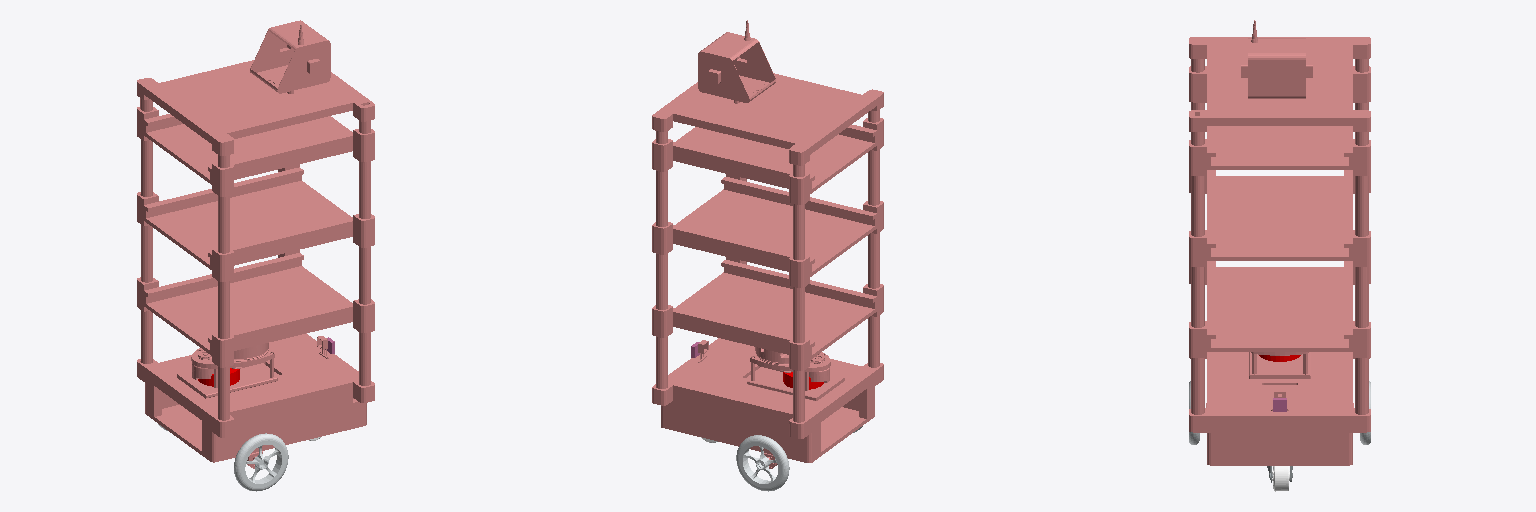
robot.urdf — recolector_v8:
<?xml version="1.0"?>
<!-- This URDF was automatically created by SolidWorks to URDF Exporter! Originally created by [author] ([email redacted]) 
     Commit Version: 1.6.0-4-g7f85cfe  Build Version: 1.6.7995.38578
     For more information, please see http://wiki.ros.org/sw_urdf_exporter -->
<robot
  name="recolector_v8">
  <link
    name="base_link">
    <inertial>
      <origin
        xyz="-0.000711812483994489 0.00172160024482687 0.257994794286112"
        rpy="0 0 0" />
      <mass
        value="1.4551450949967" />
      <inertia
        ixx="0.0265498248699101"
        ixy="0"
        ixz="0"
        iyy="0.0354943837149582"
        iyz="0"
        izz="0.0584651005440145" />
    </inertial>
    <visual>
      <origin
        xyz="0 0 0"
        rpy="0 0 0" />
      <geometry>
        <mesh
          filename="package://recolector_ros2/meshes/base_link.STL" />
      </geometry>
      <material
        name="">
        <color
          rgba="0.894117647058823 0.596078431372549 0.596078431372549 1" />
      </material>
    </visual>
    <collision>
      <origin
        xyz="0 0 0"
        rpy="0 0 0" />
      <geometry>
        <mesh
          filename="package://recolector_ros2/meshes/base_link.STL" />
      </geometry>
    </collision>
  </link>

  <gazebo reference="base_link">
    <mu1>200</mu1>
    <mu2>200</mu2>
    <kp>1000000</kp>
    <kd>1</kd>
  </gazebo>

  <link
    name="rueda_derecha_link">
    <inertial>
      <origin
        xyz="-1.6264494554219E-06 1.25045503471255E-06 -0.0119390562108947"
        rpy="0 0 0" />
      <mass
        value="0.529919806264885" />
      <inertia
        ixx="0.002"
        ixy="0"
        ixz="0"
        iyy="0.002"
        iyz="0"
        izz="0.001" />
    </inertial>
    <visual>
      <origin
        xyz="0 0 0"
        rpy="0 0 0" />
      <geometry>
        <mesh
          filename="package://recolector_ros2/meshes/rueda_derecha_link.STL" />
      </geometry>
      <material
        name="">
        <color
          rgba="0.898039215686275 0.917647058823529 0.929411764705882 1" />
      </material>
    </visual>
    <collision>
      <origin
        xyz="0 0 0"
        rpy="0 0 0" />
      <geometry>
        <mesh
          filename="package://recolector_ros2/meshes/rueda_derecha_link.STL" />
      </geometry>
    </collision>
  </link>

  <gazebo reference="rueda_derecha_link">
    <mu1>200</mu1>
    <mu2>200</mu2>
    <kp>1000000</kp>
    <kd>1</kd>
    <material>Gazebo/Gray</material>
  </gazebo>

  <joint
    name="rueda_derecha_joint"
    type="continuous">
    <origin
      xyz="-0.09446 -0.1758 -0.1338"
      rpy="1.5708 -0.074776 3.1416" />
    <parent
      link="base_link" />
    <child
      link="rueda_derecha_link" />
    <axis
      xyz="0 0 1" />
    <limit
      effort="100"
      velocity="100" />
    <dynamics
      damping="0.1"
      friction="0.1" />
  </joint>
  <link
    name="rueda_izquiera_link">
    <inertial>
      <origin
        xyz="-1.7946015785919E-06 -9.9416029515631E-07 0.0119390562153693"
        rpy="0 0 0" />
      <mass
        value="0.529919806574137" />
      <inertia
        ixx="0.002"
        ixy="0"
        ixz="0"
        iyy="0.002"
        iyz="0"
        izz="0.001" />
    </inertial>
    <visual>
      <origin
        xyz="0 0 0"
        rpy="0 0 0" />
      <geometry>
        <mesh
          filename="package://recolector_ros2/meshes/rueda_izquiera_link.STL" />
      </geometry>
      <material
        name="">
        <color
          rgba="0.898039215686275 0.917647058823529 0.929411764705882 1" />
      </material>
    </visual>
    <collision>
      <origin
        xyz="0 0 0"
        rpy="0 0 0" />
      <geometry>
        <mesh
          filename="package://recolector_ros2/meshes/rueda_izquiera_link.STL" />
      </geometry>
    </collision>
  </link>
  <joint
    name="rueda_izquiera_joint"
    type="continuous">
    <origin
      xyz="-0.09446 0.1758 -0.1338"
      rpy="-1.5708 0.074776 0" />
    <parent
      link="base_link" />
    <child
      link="rueda_izquiera_link" />
    <axis
      xyz="0 0 1" />
    <limit
      effort="100"
      velocity="100" />
    <dynamics
      damping="0.1"
      friction="0.1" />
  </joint>

  <gazebo reference="rueda_izquiera_link">
    <mu1>200</mu1>
    <mu2>200</mu2>
    <kp>1000000</kp>
    <kd>1</kd>
    <material>Gazebo/Gray</material>
  </gazebo>

  <link
    name="base_castor_link">
    <inertial>
      <origin
        xyz="0.0191648864694682 -0.00146496473370206 0.0128267514302346"
        rpy="0 0 0" />
      <mass
        value="0.215171406252836" />
      <inertia
        ixx="0.000121585630266892"
        ixy="2.48092821183915E-07"
        ixz="-2.41578569761316E-05"
        iyy="0.000127975596762742"
        iyz="1.57442789839309E-06"
        izz="0.000165459219137249" />
    </inertial>
    <visual>
      <origin
        xyz="0 0 0"
        rpy="0 0 0" />
      <geometry>
        <mesh
          filename="package://recolector_ros2/meshes/base_castor_link.STL" />
      </geometry>
      <material
        name="">
        <color
          rgba="0.63921568627451 0.666666666666667 0.67843137254902 1" />
      </material>
    </visual>
    <collision>
      <origin
        xyz="0 0 0"
        rpy="0 0 0" />
      <geometry>
        <mesh
          filename="package://recolector_ros2/meshes/base_castor_link.STL" />
      </geometry>
    </collision>
  </link>

  <gazebo reference="base_castor_link">
    <mu1>0.1</mu1>
    <mu2>0.1</mu2>
    <kp>1000000</kp>
    <kd>1</kd>
    <material>Gazebo/Gray</material>
  </gazebo>
  
  <joint
    name="base_castor_joint"
    type="continuous">
    <origin
      xyz="0.11414 0 -0.13548"
      rpy="-3.1366 0 0" />
    <parent
      link="base_link" />
    <child
      link="base_castor_link" />
    <axis
      xyz="0 0 1" />
    <limit
      effort="100"
      velocity="100" />
    <dynamics
      damping="0.1"
      friction="0.1" />
  </joint>
  <link
    name="rueda_castor_link">
    <inertial>
      <origin
        xyz="-7.07219005580129E-12 -3.79738573919042E-10 -6.69822119991892E-09"
        rpy="0 0 0" />
      <mass
        value="0.106094497392739" />
      <inertia
        ixx="0.002"
        ixy="0"
        ixz="0"
        iyy="0.002"
        iyz="0"
        izz="0.001" />
    </inertial>
    <visual>
      <origin
        xyz="0 0 0"
        rpy="0 0 0" />
      <geometry>
        <mesh
          filename="package://recolector_ros2/meshes/rueda_castor_link.STL" />
      </geometry>
      <material
        name="">
        <color
          rgba="1 1 1 1" />
      </material>
    </visual>
    <collision>
      <origin
        xyz="0 0 0"
        rpy="0 0 0" />
      <geometry>
        <mesh
          filename="package://recolector_ros2/meshes/rueda_castor_link.STL" />
      </geometry>
    </collision>
  </link>

  <gazebo reference="rueda_castor_link">
    <mu1>0.01</mu1>
    <mu2>0.01</mu2>
    <kp>1000000</kp>
    <kd>1</kd>
    <material>Gazebo/Gray</material>
  </gazebo>

  <joint
    name="rueda_castor_joint"
    type="continuous">
    <origin
      xyz="0.037463 -0.0019644 0.036457"
      rpy="0 -1.5658 1.5708" />
    <parent
      link="base_castor_link" />
    <child
      link="rueda_castor_link" />
    <axis
      xyz="0 0 1" />
    <limit
      effort="100"
      velocity="100" />
    <dynamics
      damping="0.1"
      friction="0.1" />
  </joint>


  <joint name="laser_joint" type="fixed">
        <parent
          link="base_link" />
        <child link="laser_frame"/>
        <origin xyz="-0.1 0 0.020" rpy="0 0 0"/>
  </joint>

  <link name="laser_frame">
   <inertial>
      <origin
        xyz="0 0 0"
        rpy="0 0 0" />
      <mass
        value="0.1" />
      <inertia
        ixx="0.002"
        ixy="0"
        ixz="0"
        iyy="0.002"
        iyz="0"
        izz="0.001" />
    </inertial>
    <visual>
      <geometry>
        <cylinder radius="0.05" length="0.04"/>
      </geometry>
      <material
        name="">
        <color
         rgba="1 0 0 1" />
      </material>
    </visual>
    <collision>
      <geometry>
        <cylinder radius="0.05" length="0.04"/>
      </geometry>
    </collision> 
  </link>

 <!-- Camera -->
  <link name="camera_link">
    <collision>
      <origin xyz="0 0 0" rpy="0 0 0"/>
      <geometry>
        <box size="0.010 0.03 0.03"/>
      </geometry>
    </collision>

    <visual>
      <origin xyz="0 0 0" rpy="0 0 0"/>
      <geometry>
        <box size="0.010 0.03 0.03"/>
      </geometry>
      <material name="green"/>
    </visual>
  </link>

  <joint name="camera_joint" type="fixed">
    <axis xyz="0 1 0" />
    <origin xyz="0.2 0 0.022" rpy="0 0 0"/>
    <parent link="base_link"/>
    <child link="camera_link"/>
  </joint>


  

  <gazebo>
    <plugin name="two_wheeled_robot_diff_drive" filename="libgazebo_ros_diff_drive.so">
 
      <update_rate>100</update_rate>
      
      <!-- ruedas -->
      <left_joint>rueda_izquiera_joint</left_joint>
      <right_joint>rueda_derecha_joint</right_joint>
 
      <!-- cinematica -->
      <wheel_separation>0.3516</wheel_separation>
      <wheel_diameter>0.144</wheel_diameter>
 
      <!-- limites -->
      <max_wheel_torque>10</max_wheel_torque>
      <max_wheel_acceleration>10</max_wheel_acceleration>
 
      <!-- Recibe los comandos de velocidad -->
      <command_topic>cmd_vel</command_topic>
 
      <!-- output -->
      <!-- Cuando es falso, publica no recibe el comando de odometria -->
      <publish_odom>true</publish_odom>
 
      <!-- When true, publish coordinate transform from odom to base_footprint -->
      <!-- I usually use the robot_localization package to publish this transform -->  
      <publish_odom_tf>true</publish_odom_tf>
     
      <!-- When true, publish coordinate transform from base_link to the wheels -->
      <!-- The robot_state_publisher package is often used to publish this transform -->  
      <publish_wheel_tf>true</publish_wheel_tf>
 
      <odometry_topic>odom</odometry_topic>
      <odometry_frame>odom_link</odometry_frame>
      <robot_base_frame>base_link</robot_base_frame>
 
      <odometry_source>1</odometry_source>
      <ros>
        <remapping>odom:=wheel/odometry</remapping>
      </ros>
    </plugin>
  </gazebo>

  <gazebo reference="laser_frame">
        <material>Gazebo/Black</material>

        <sensor name="laser" type="ray">
            <pose> 0 0 0 0 0 0 </pose>
            <visualize>true</visualize>
            <update_rate>10</update_rate>
            <ray>
                <scan>
                    <horizontal>
                        <samples>360</samples>
                        <min_angle>-3.14</min_angle>
                        <max_angle>3.14</max_angle>
                    </horizontal>
                </scan>
                <range>
                    <min>0.3</min>
                    <max>12</max>
                </range>
            </ray>
            <plugin name="laser_controller" filename="libgazebo_ros_ray_sensor.so">
                <ros>
                    <argument>~/out:=scan</argument>
                </ros>
                <output_type>sensor_msgs/LaserScan</output_type>
                <frame_name>laser_frame</frame_name>
            </plugin>
        </sensor>
  </gazebo>

  <gazebo reference="camera_link">
    <material>Gazebo/Green</material>
    <sensor type="camera" name="camera">
      <update_rate>30.0</update_rate>
      <visualize></visualize>
      <camera name="head">
        <horizontal_fov>1.3962634</horizontal_fov>
        <image>
          <width>800</width>
          <height>800</height>
          <format>R8G8B8</format>
        </image>
        <clip>
          <near>0.02</near>
          <far>300</far>
        </clip>
      </camera>
      <plugin name="camera_controller" filename="libgazebo_ros_camera.so">
        <alwaysOn>true</alwaysOn>
        <updateRate>0.0</updateRate>
        <cameraName>spcbot/camera</cameraName>
        <imageTopicName>image_raw</imageTopicName>
        <cameraInfoTopicName>camera_info</cameraInfoTopicName>
        <frameName>camera</frameName>
        <hackBaseline>0.07</hackBaseline>
        <distortionK1>0.0</distortionK1>
        <distortionK2>0.0</distortionK2>
        <distortionK3>0.0</distortionK3>
        <distortionT1>0.0</distortionT1>
        <distortionT2>0.0</distortionT2>
      </plugin>
    </sensor>
  </gazebo>


  <gazebo>
    <plugin name="gazebo_ros_joint_state_publisher"
        filename="libgazebo_ros_joint_state_publisher.so">
        <update_rate>100</update_rate>
        <joint_name>base_castor_joint</joint_name>
        <joint_name>rueda_castor_joint</joint_name>
    </plugin>
  </gazebo>

</robot>

--- Render facts (derived) ---
Views: 3 orthographic renders of the robot side by side, from view 1: azimuth 30°, elevation 25°; view 2: azimuth 150°, elevation 25°; view 3: azimuth 270°, elevation 25°.
Model recolector_v8 with 7 links and 6 joints (4 continuous, 2 fixed), rooted at base_link, posed every joint at zero.
Links seen in each view (by area): view 1: base_link, rueda_derecha_link; view 2: base_link, rueda_izquiera_link; view 3: base_link.
Boxes of the visible links, x1=… form: base_link: x1=137, y1=20, x2=374, y2=468; rueda_derecha_link: x1=234, y1=433, x2=288, y2=491; base_link: x1=652, y1=20, x2=883, y2=468; rueda_izquiera_link: x1=736, y1=435, x2=789, y2=491; base_link: x1=1189, y1=20, x2=1370, y2=465.
Size in the robot's own frame: 0.42 by 0.4 by 1.1 metres.
Meshes: 5 distinct files referenced, 5 mesh visuals loaded (5 binary STL).
